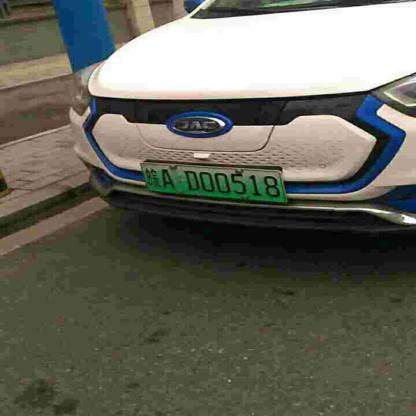lp: (140, 165, 285, 203)
